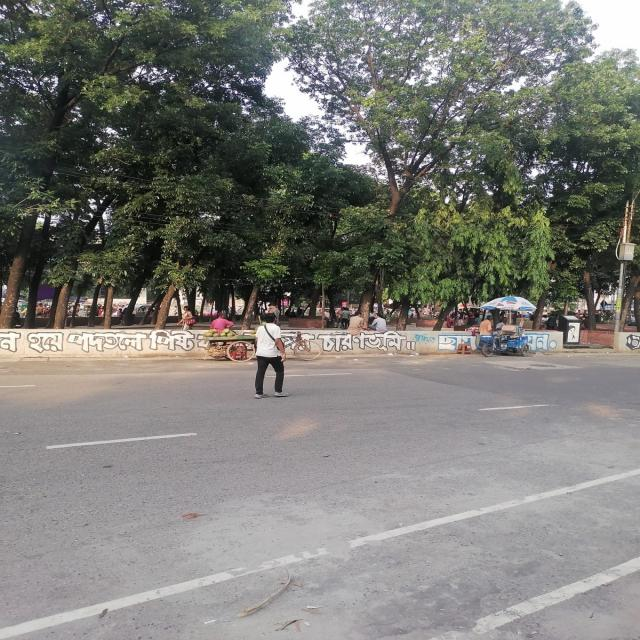person: (247, 307, 295, 410)
